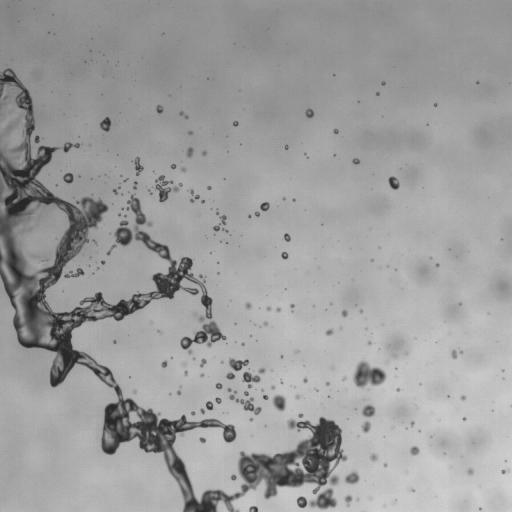droplet: (353, 360, 386, 388), (155, 175, 182, 202), (225, 358, 248, 379), (242, 368, 265, 388), (213, 215, 227, 232), (272, 394, 286, 411), (344, 470, 359, 484), (361, 404, 375, 417), (388, 176, 399, 189), (100, 117, 110, 131), (189, 189, 199, 202), (63, 173, 73, 183), (361, 421, 370, 432), (451, 350, 462, 358), (260, 202, 269, 211), (410, 446, 419, 455), (344, 495, 352, 505), (205, 401, 213, 410), (186, 147, 193, 157), (305, 109, 313, 117), (156, 105, 163, 113), (370, 453, 377, 461), (281, 252, 288, 259), (284, 233, 290, 241), (41, 255, 49, 261), (200, 358, 206, 366), (352, 158, 359, 164), (245, 302, 251, 309), (341, 310, 347, 317), (326, 329, 333, 335), (161, 360, 167, 367), (215, 383, 222, 389), (467, 468, 473, 475), (501, 469, 509, 474), (249, 506, 257, 511), (215, 397, 221, 403), (230, 474, 236, 480), (34, 136, 39, 142), (200, 437, 205, 443), (31, 254, 38, 258), (233, 121, 238, 126), (171, 164, 176, 169), (276, 307, 281, 312), (333, 129, 338, 133), (113, 189, 117, 194), (255, 211, 259, 216), (290, 304, 294, 309), (266, 306, 271, 310), (263, 394, 267, 399), (461, 395, 465, 400), (200, 408, 204, 413), (298, 413, 303, 417), (410, 421, 414, 426), (381, 81, 385, 85), (202, 151, 206, 155), (181, 167, 185, 171), (263, 321, 267, 325), (342, 376, 346, 380), (303, 378, 307, 382), (177, 391, 181, 395), (244, 391, 248, 395), (191, 411, 195, 415), (295, 395, 300, 398), (92, 240, 96, 243), (101, 260, 104, 264), (182, 362, 185, 366), (184, 371, 187, 375), (200, 373, 203, 377), (271, 386, 275, 389), (383, 463, 387, 466), (189, 131, 192, 134), (148, 190, 151, 193), (436, 263, 439, 266), (326, 382, 329, 385), (396, 388, 399, 391), (133, 390, 136, 393), (285, 146, 288, 148), (124, 179, 127, 181), (208, 186, 210, 189), (368, 342, 371, 344), (228, 388, 230, 391), (463, 417, 465, 420), (250, 418, 253, 420), (411, 489, 414, 491), (479, 507, 481, 510), (216, 212, 218, 214), (248, 215, 250, 217), (360, 310, 362, 312), (158, 331, 160, 333), (242, 343, 244, 345), (296, 350, 298, 352), (280, 380, 282, 382)
ligament: (0, 72, 335, 511), (229, 391, 261, 414), (61, 142, 80, 152), (6, 119, 19, 133), (65, 268, 84, 277), (133, 157, 143, 174), (19, 226, 32, 234), (180, 111, 188, 118), (133, 181, 137, 189)
